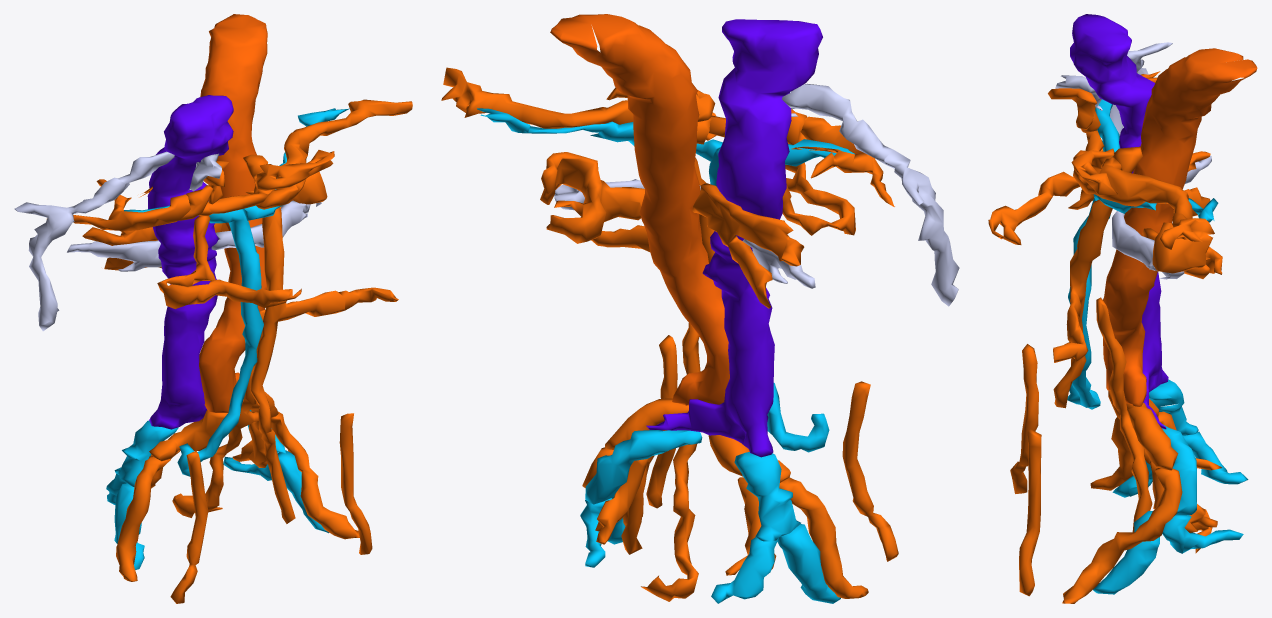
File: Vascular System.gltf
3 views of the same model, side by side, from view 1: azimuth 30°, elevation 25°; view 2: azimuth 150°, elevation 25°; view 3: azimuth 270°, elevation 25° (orthographic). The views are drawn at different scales.
Parts seen in each view (by area): view 1: inferior vena cava, aorta, superior mesenteric artery, portal vein and superior mesenteric vein, right hepatic vein, gastroduodenal artery, inferior mesenteric artery, splenic artery, left external iliac artery, right external iliac artery, right hepatic artery, right inferior epigastric artery (+15 smaller); view 2: inferior vena cava, aorta, right hepatic vein, left renal artery, right renal artery, inferior mesenteric artery, splenic artery, left common iliac vein, right common iliac vein, right external iliac artery, right inferior epigastric artery, portal vein and superior mesenteric vein (+14 smaller); view 3: aorta, inferior vena cava, superior mesenteric artery, splenic artery, left external iliac artery, inferior mesenteric artery, left renal artery, gastroduodenal artery, portal vein and superior mesenteric vein, left inferior epigastric artery, right inferior epigastric artery, left external iliac vein (+17 smaller).
Part boxes in pixels (x1,y1,x2,y2): inferior vena cava: [147, 95, 233, 429]; aorta: [199, 14, 267, 412]; superior mesenteric artery: [246, 190, 398, 433]; portal vein and superior mesenteric vein: [124, 205, 263, 476]; right hepatic vein: [14, 151, 174, 331]; gastroduodenal artery: [157, 215, 301, 308]; inferior mesenteric artery: [172, 309, 295, 523]; splenic artery: [256, 99, 412, 209]; left external iliac artery: [271, 411, 359, 539]; right external iliac artery: [116, 456, 170, 581]; right hepatic artery: [46, 179, 190, 231]; right inferior epigastric artery: [170, 451, 208, 603]; inferior vena cava: [646, 19, 822, 457]; aorta: [550, 14, 729, 405]; right hepatic vein: [782, 83, 959, 306]; left renal artery: [540, 152, 644, 243]; right renal artery: [692, 183, 804, 308]; inferior mesenteric artery: [621, 323, 700, 601]; splenic artery: [441, 67, 716, 140]; left common iliac vein: [585, 430, 702, 504]; right common iliac vein: [734, 452, 800, 541]; right external iliac artery: [779, 477, 868, 598]; right inferior epigastric artery: [842, 381, 898, 561]; portal vein and superior mesenteric vein: [709, 139, 854, 452]; aorta: [1103, 48, 1257, 406]; inferior vena cava: [1070, 14, 1168, 429]; superior mesenteric artery: [1053, 199, 1112, 408]; splenic artery: [1073, 157, 1214, 249]; left external iliac artery: [1062, 467, 1182, 603]; inferior mesenteric artery: [1096, 297, 1212, 553]; left renal artery: [1142, 222, 1222, 278]; gastroduodenal artery: [988, 148, 1103, 244]; portal vein and superior mesenteric vein: [1067, 99, 1119, 409]; left inferior epigastric artery: [1019, 429, 1041, 596]; right inferior epigastric artery: [1010, 344, 1038, 493]; left external iliac vein: [1093, 511, 1159, 594].
Size of the model in its own units: 147 by 166 by 78.96.
